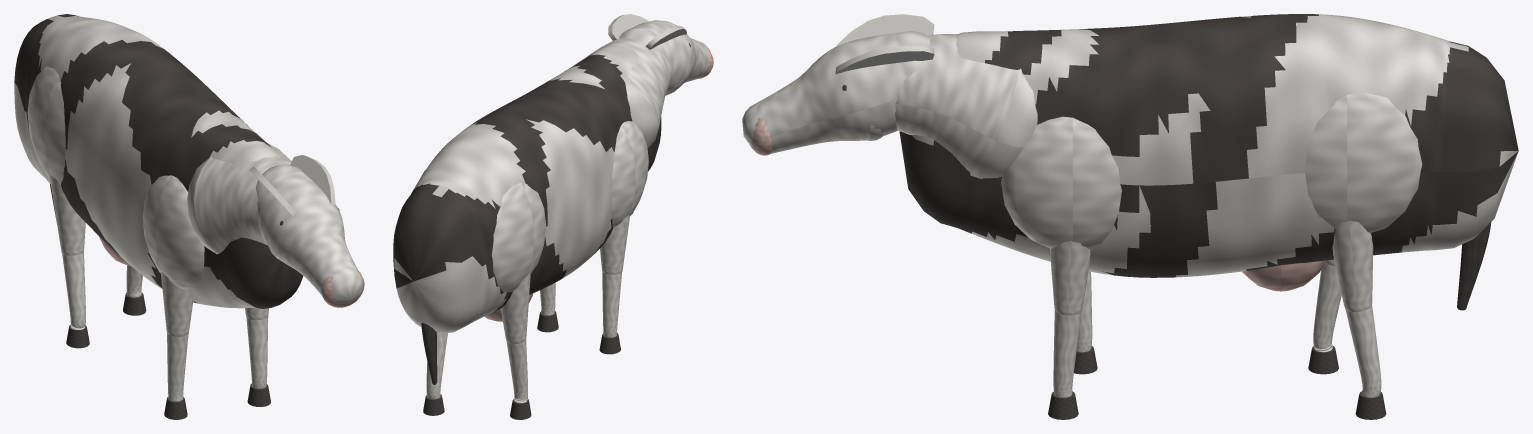
File: cow.glb
3 views of the same model, side by side, from view 1: azimuth 30°, elevation 25°; view 2: azimuth 150°, elevation 25°; view 3: azimuth 270°, elevation 25° (orthographic). The views are drawn at different scales.
Visible parts, largest first — view 1: dairy-cow-holstein; view 2: dairy-cow-holstein; view 3: dairy-cow-holstein.
Boxes of the visible parts, left/top/right/bottom form: dairy-cow-holstein: left=14, top=14, right=364, bottom=419; dairy-cow-holstein: left=393, top=14, right=713, bottom=419; dairy-cow-holstein: left=742, top=14, right=1518, bottom=419.
Bounding box in the file's own units: 0.6262 × 1.44 × 2.76.
Materials: 3 (3 with a texture image).
